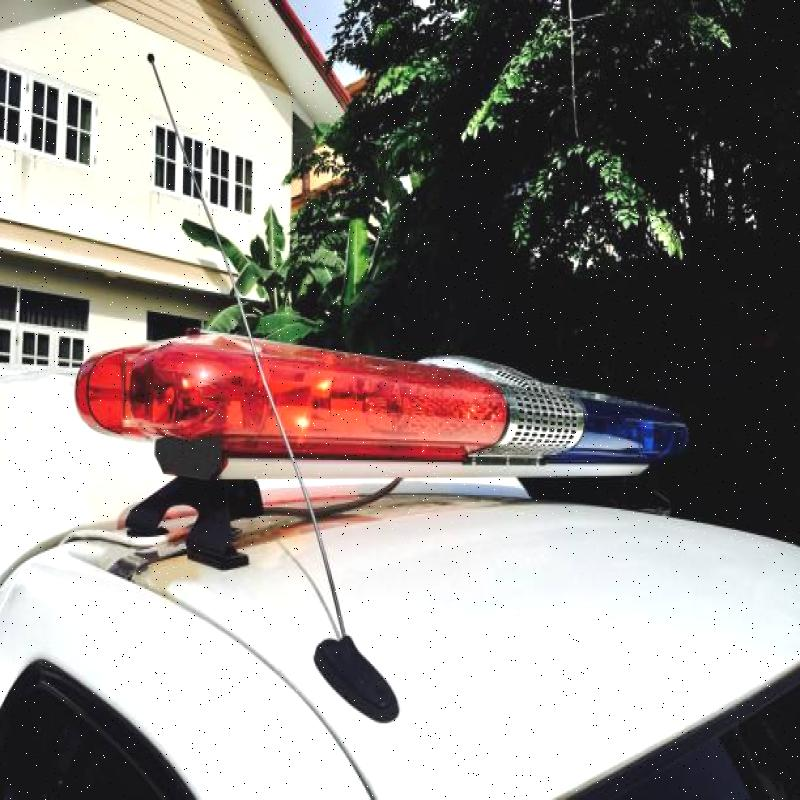AmbulanceSiren: (55, 267, 687, 522)
